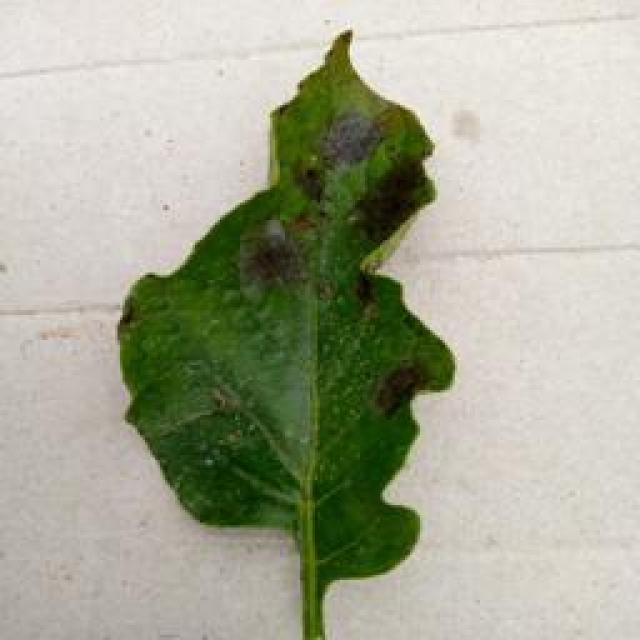late_blight: (112, 25, 460, 637)
